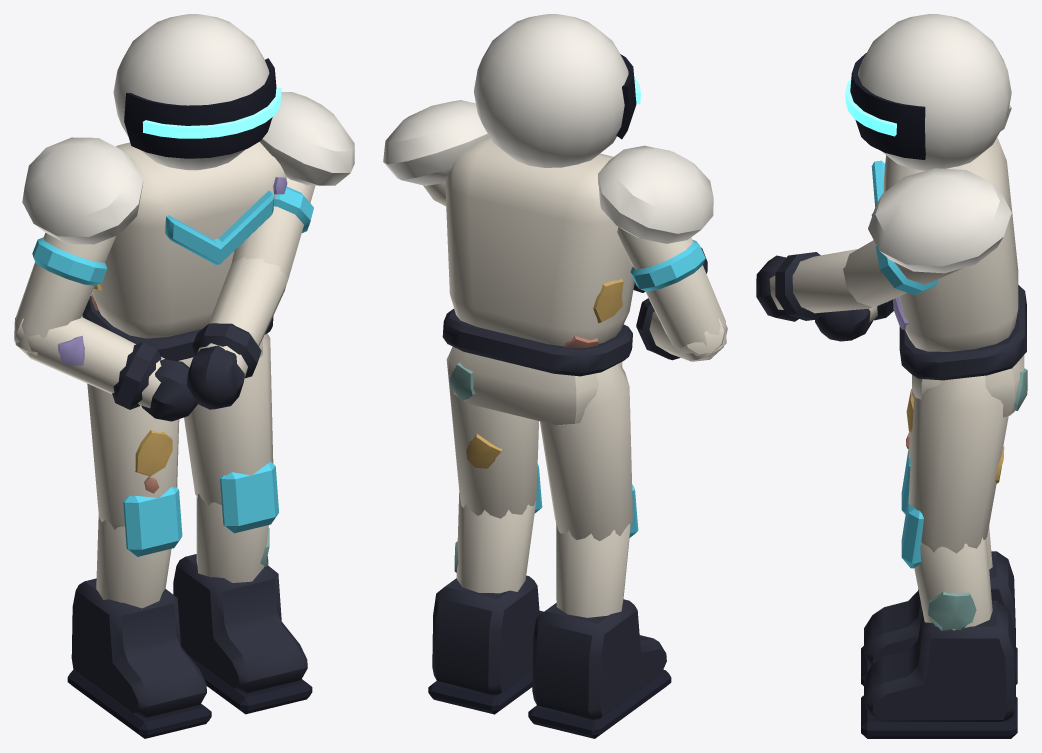
The model's file is canvas_runner.glb.
The picture shows the model from 3 angles, left to right: view 1: azimuth 30°, elevation 25°; view 2: azimuth 150°, elevation 25°; view 3: azimuth 270°, elevation 25°; orthographic projection.
Visible parts, largest first — view 1: Body, Leg_R, Leg_L, Head; view 2: Body, Leg_R, Leg_L, Head; view 3: Body, Leg_L, Head, Leg_R.
Boxes of the visible parts, box(x1,y1,x2,y2) form: Body: box(14, 92, 354, 421); Leg_R: box(67, 383, 211, 738); Leg_L: box(173, 333, 312, 714); Head: box(113, 14, 281, 170); Body: box(383, 100, 727, 425); Leg_R: box(528, 364, 671, 738); Leg_L: box(428, 347, 543, 714); Head: box(474, 14, 640, 167); Body: box(756, 105, 1027, 417); Leg_L: box(861, 375, 1017, 738); Head: box(845, 14, 1011, 170); Leg_R: box(861, 389, 1017, 685).
Bounding box in the file's own units: 0.8178 × 1.6 × 0.5799.
